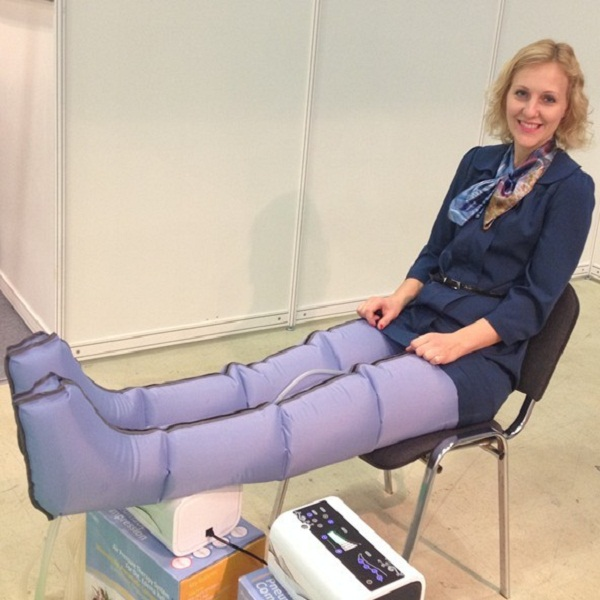chair: (360, 281, 581, 600)
patient: (1, 39, 600, 520)
sequential_compression: (4, 329, 431, 599)
